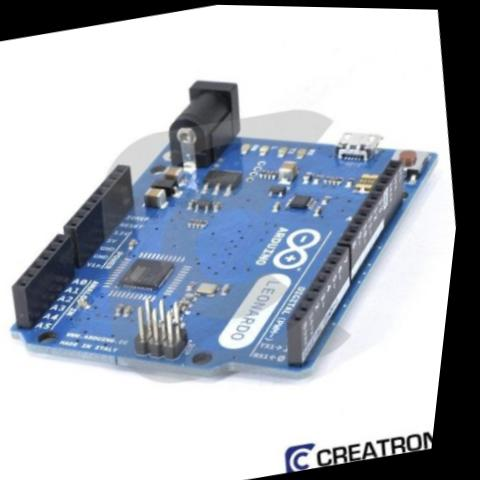Arduino-Leonardo: (0, 24, 478, 439)
